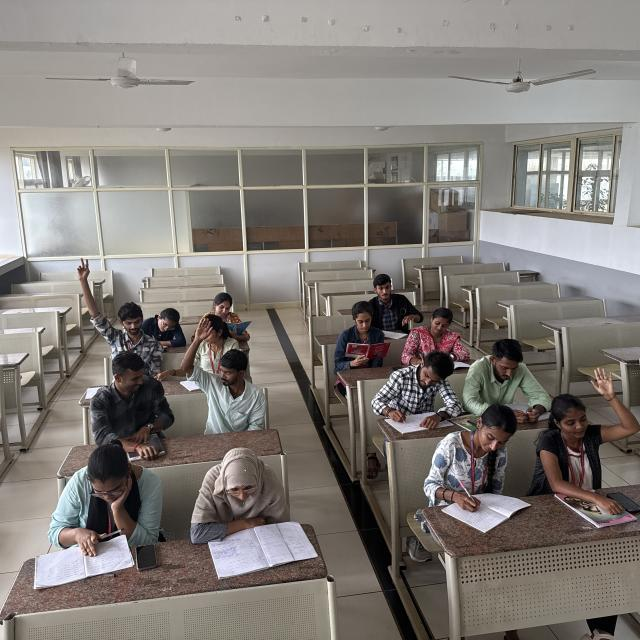Hand Rising: (548, 360, 630, 507), (183, 316, 259, 427), (71, 252, 153, 352)
Reading: (187, 446, 307, 563), (331, 298, 393, 368), (211, 291, 254, 342)
Writing: (43, 442, 164, 558), (424, 401, 526, 534), (371, 350, 453, 430), (403, 308, 473, 366), (139, 302, 193, 348)
